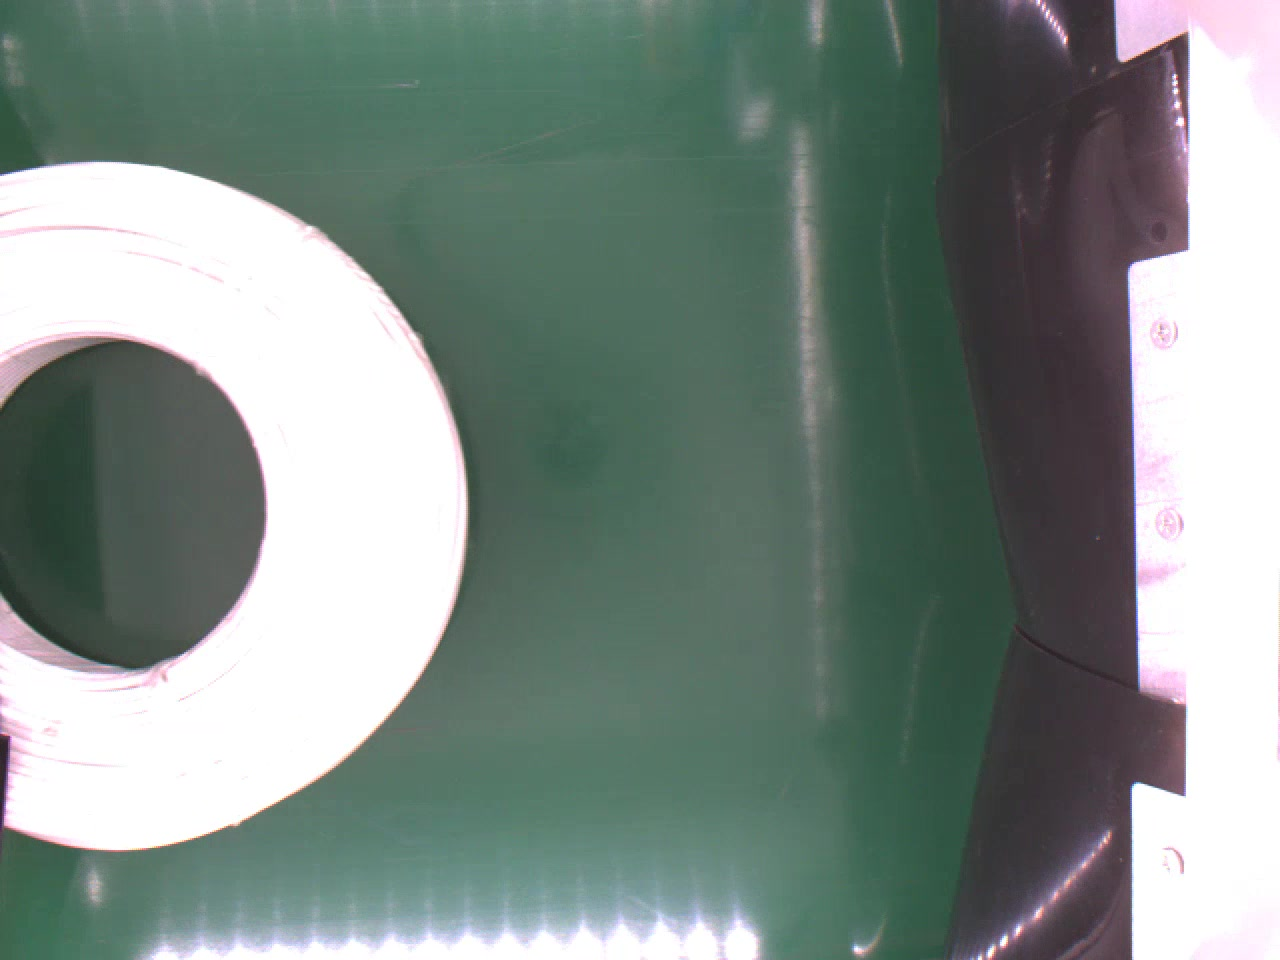white: (0, 162, 470, 856)
